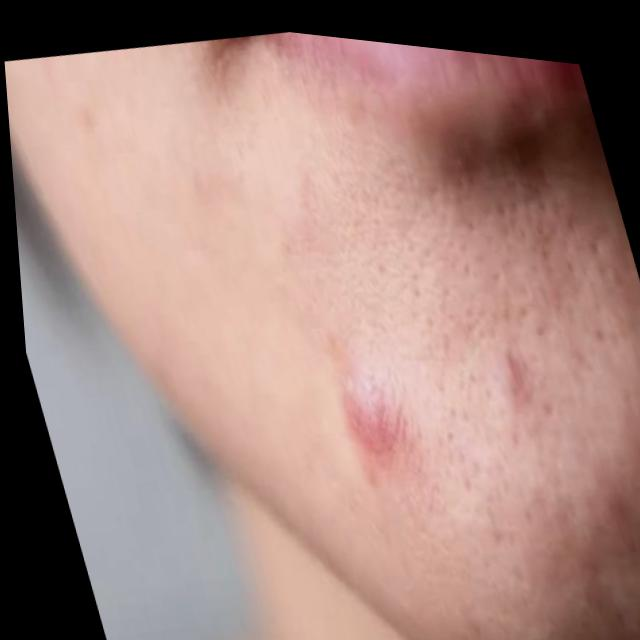nodule: (317, 314, 403, 465)
